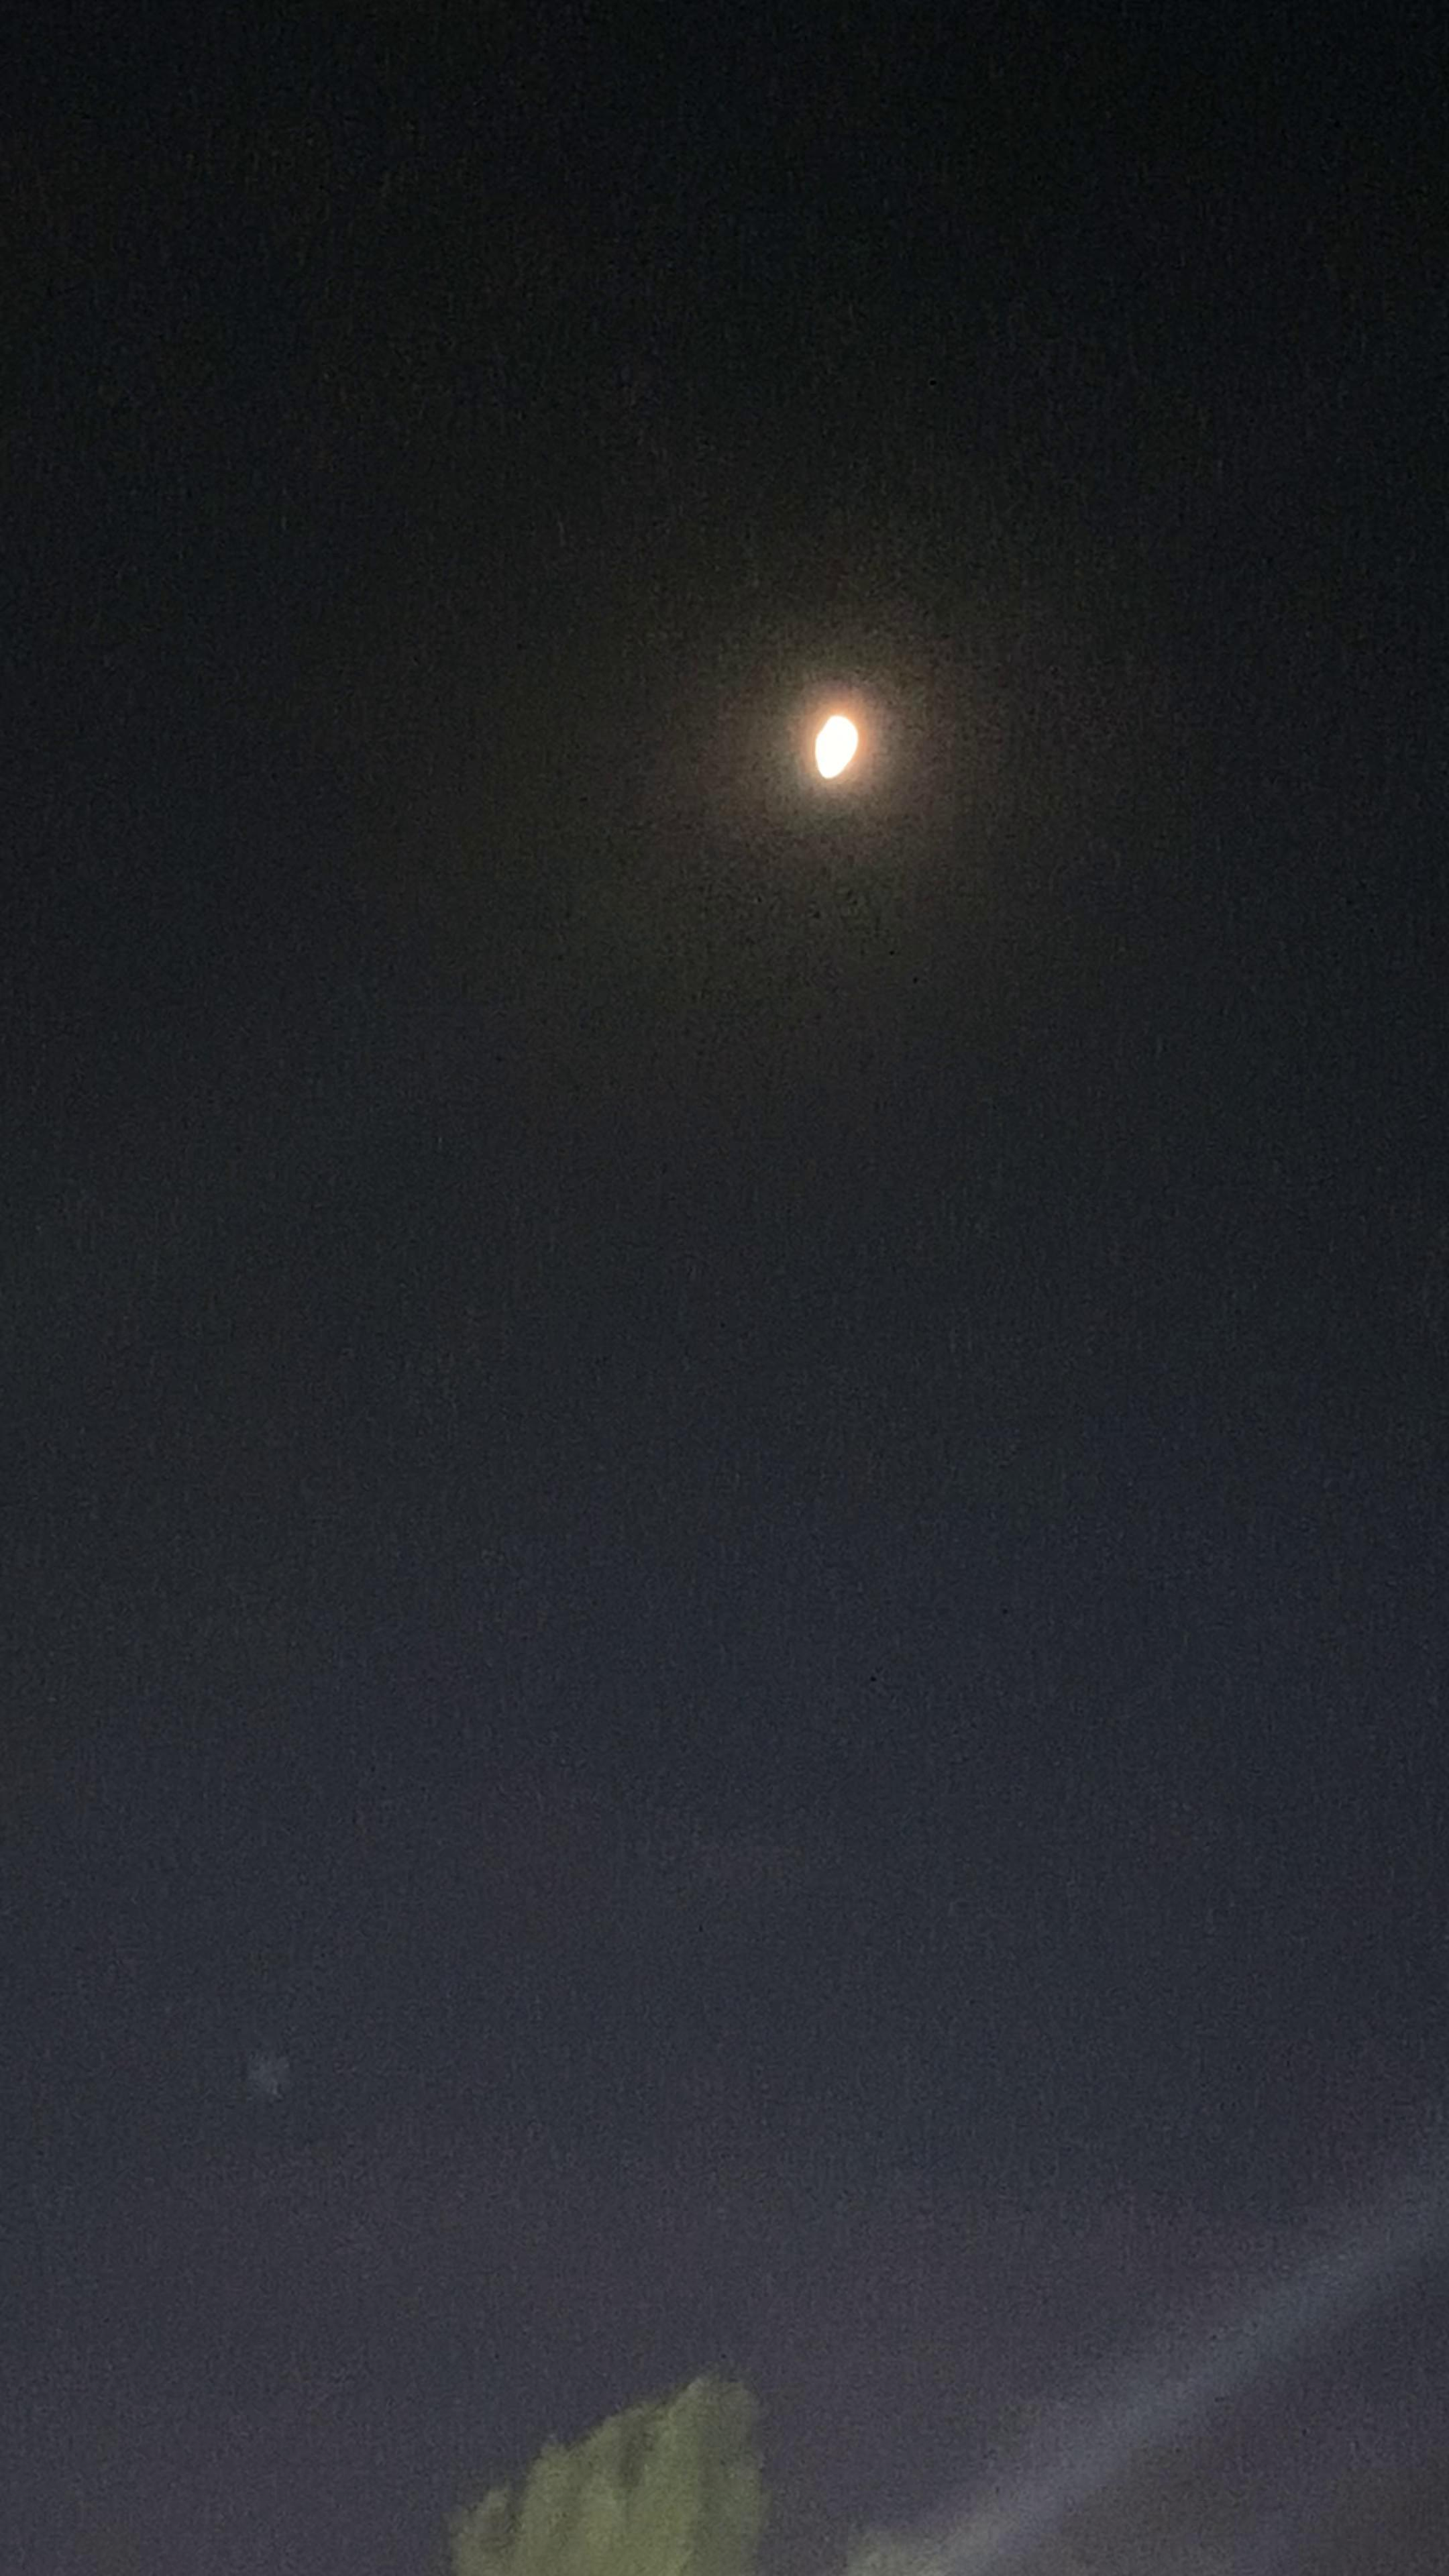moon: (786, 681, 902, 809)
